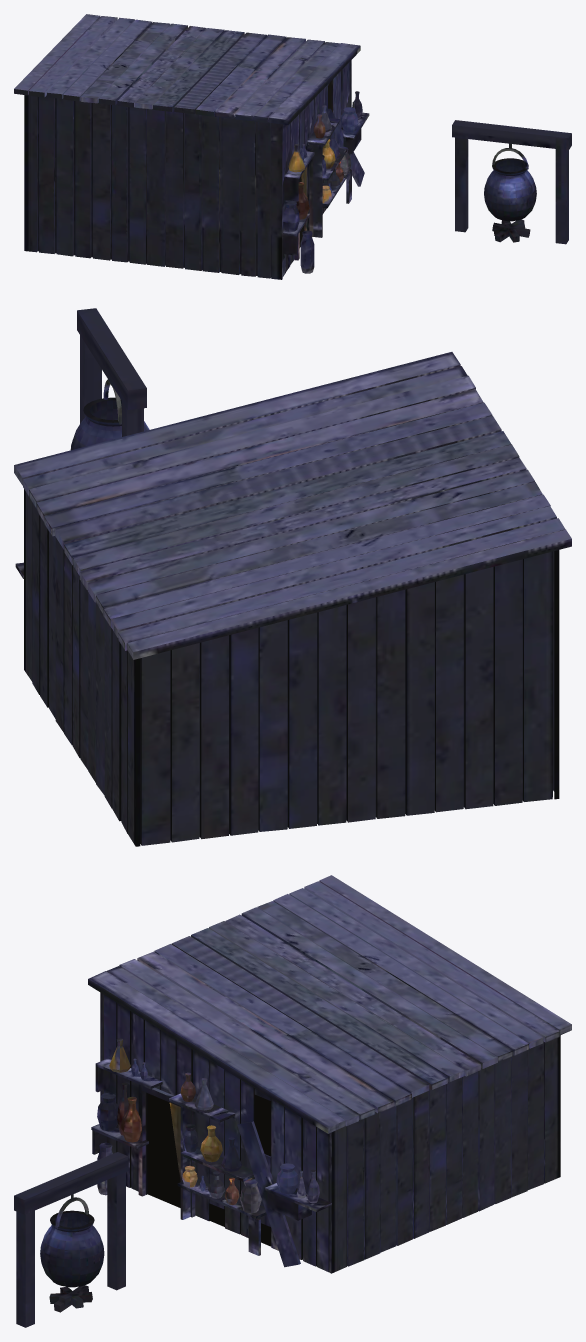
Rendered from adrias-hut_textured.glb.
3 views of the same model, one above another, from view 1: azimuth 30°, elevation 25°; view 2: azimuth 150°, elevation 25°; view 3: azimuth 270°, elevation 25° (orthographic). The views are drawn at different scales.
Visible parts, largest first — view 1: walls, roofs, frames; view 2: walls, roofs; view 3: walls, roofs, frames, openings.
Part boxes in pixels (<box>): walls: <box>24,60,571,279</box>; roofs: <box>14,14,360,124</box>; frames: <box>283,108,369,260</box>; walls: <box>24,308,559,846</box>; roofs: <box>14,352,571,659</box>; walls: <box>14,992,560,1327</box>; roofs: <box>88,875,571,1133</box>; frames: <box>91,1058,331,1267</box>; openings: <box>147,1093,271,1246</box>.
Bounding box in the file's own units: 7.71 × 2.79 × 7.11.
2 materials, 1 textured.
